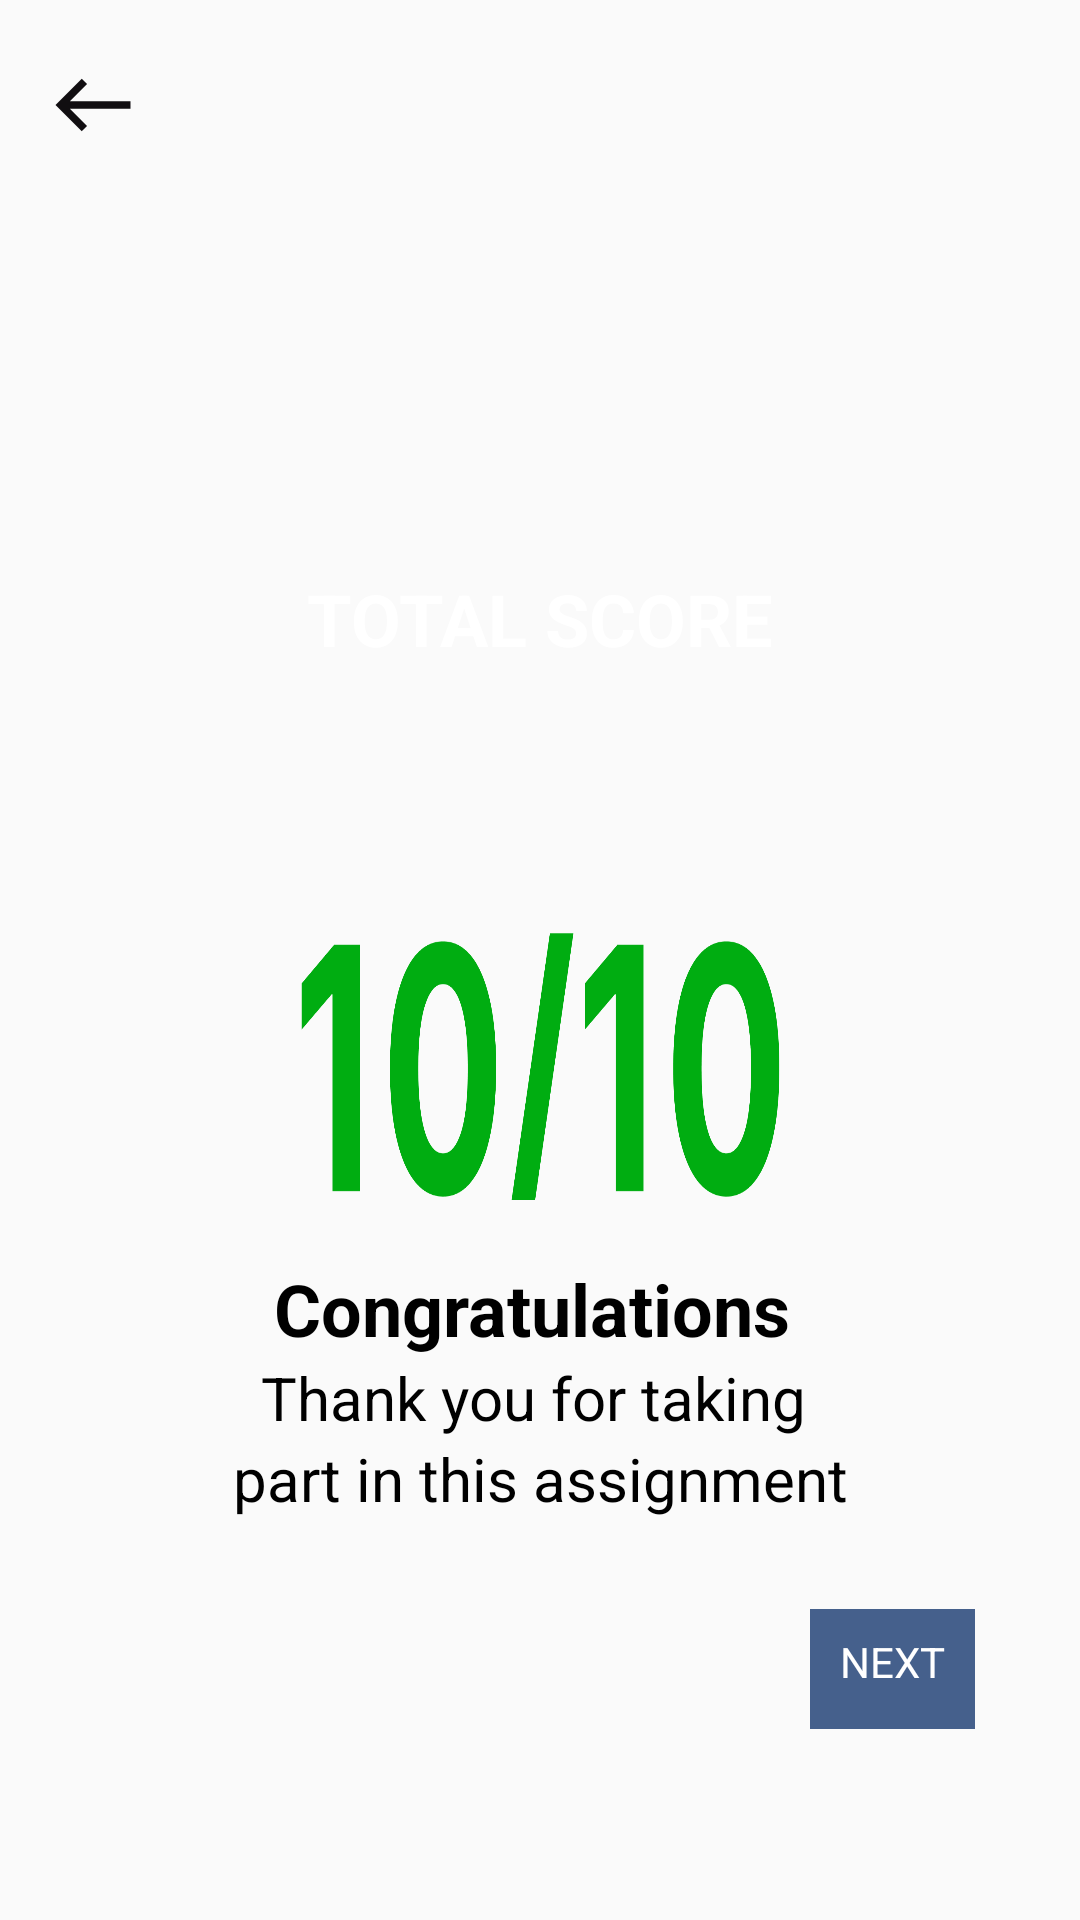

Where to tap for icons on this 1080 × 1920 app screen, as (x=x, y=y):
west: (x=93, y=105)
